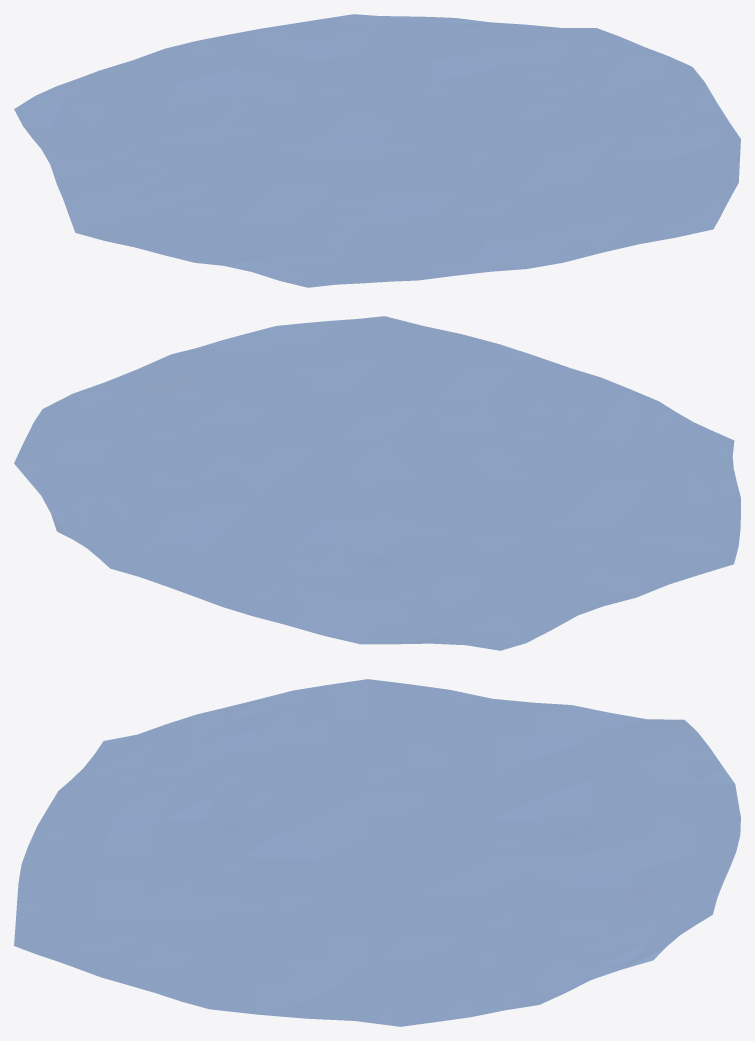
The model's file is Jungle_water.fbx.
3 renders of one model, top to bottom at view 1: azimuth 30°, elevation 25°; view 2: azimuth 150°, elevation 25°; view 3: azimuth 270°, elevation 25°, orthographic. The views are drawn at different scales.
Parts seen in each view (by area): view 1: Jungle_water; view 2: Jungle_water; view 3: Jungle_water.
Part boxes in pixels (left/top/right/bottom): Jungle_water: left=14, top=14, right=740, bottom=287; Jungle_water: left=14, top=316, right=740, bottom=650; Jungle_water: left=14, top=679, right=740, bottom=1026.
Bounding box in the file's own units: 45.81 × 0.4694 × 40.27.
